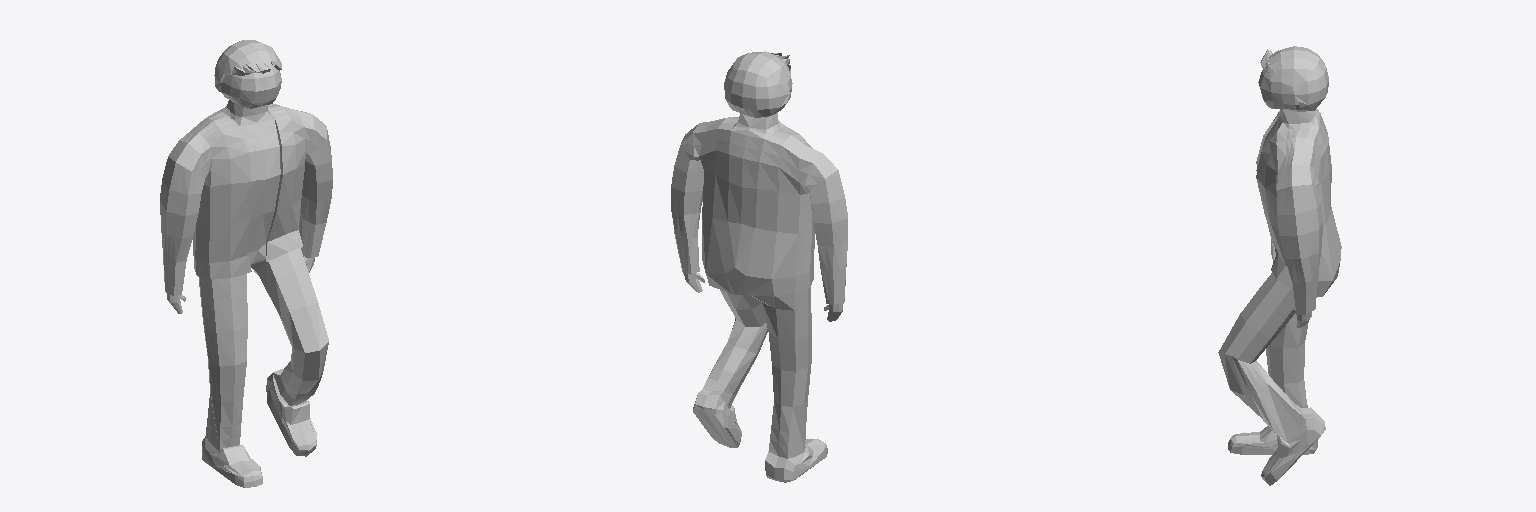
Rendered from Body1.obj.
3 views of the same model, side by side, from view 1: azimuth 30°, elevation 25°; view 2: azimuth 150°, elevation 25°; view 3: azimuth 270°, elevation 25° (orthographic).
Visible parts, largest first — view 1: Cube.001_Cube.002; view 2: Cube.001_Cube.002; view 3: Cube.001_Cube.002.
Boxes of the visible parts, <box> form: Cube.001_Cube.002: <box>160,40,332,487</box>; Cube.001_Cube.002: <box>671,51,847,482</box>; Cube.001_Cube.002: <box>1218,46,1341,485</box>.
Bounding box in the file's own units: 3.32 × 7.7 × 2.08.